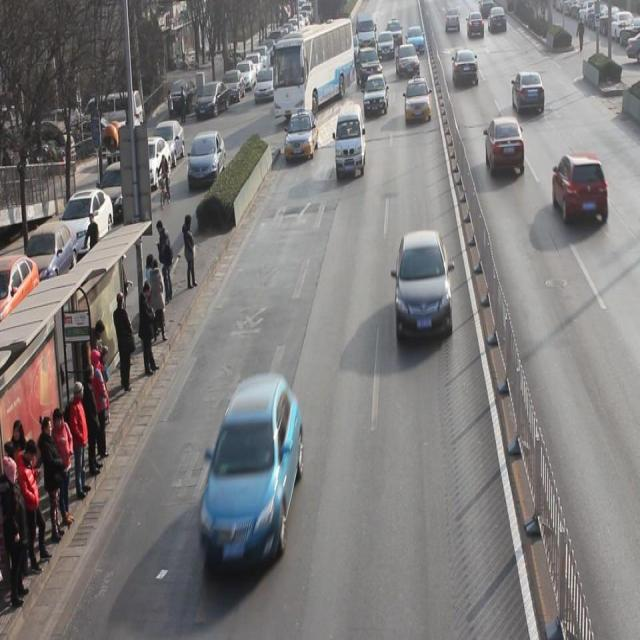car: (201, 374, 305, 574), (396, 232, 454, 342), (553, 152, 610, 227), (486, 117, 526, 178), (284, 109, 320, 164), (512, 70, 546, 117), (404, 78, 433, 128), (363, 73, 390, 119), (356, 46, 382, 90), (452, 48, 479, 88), (396, 43, 421, 78)
truck: (334, 103, 366, 183)
van: (273, 20, 354, 126)
